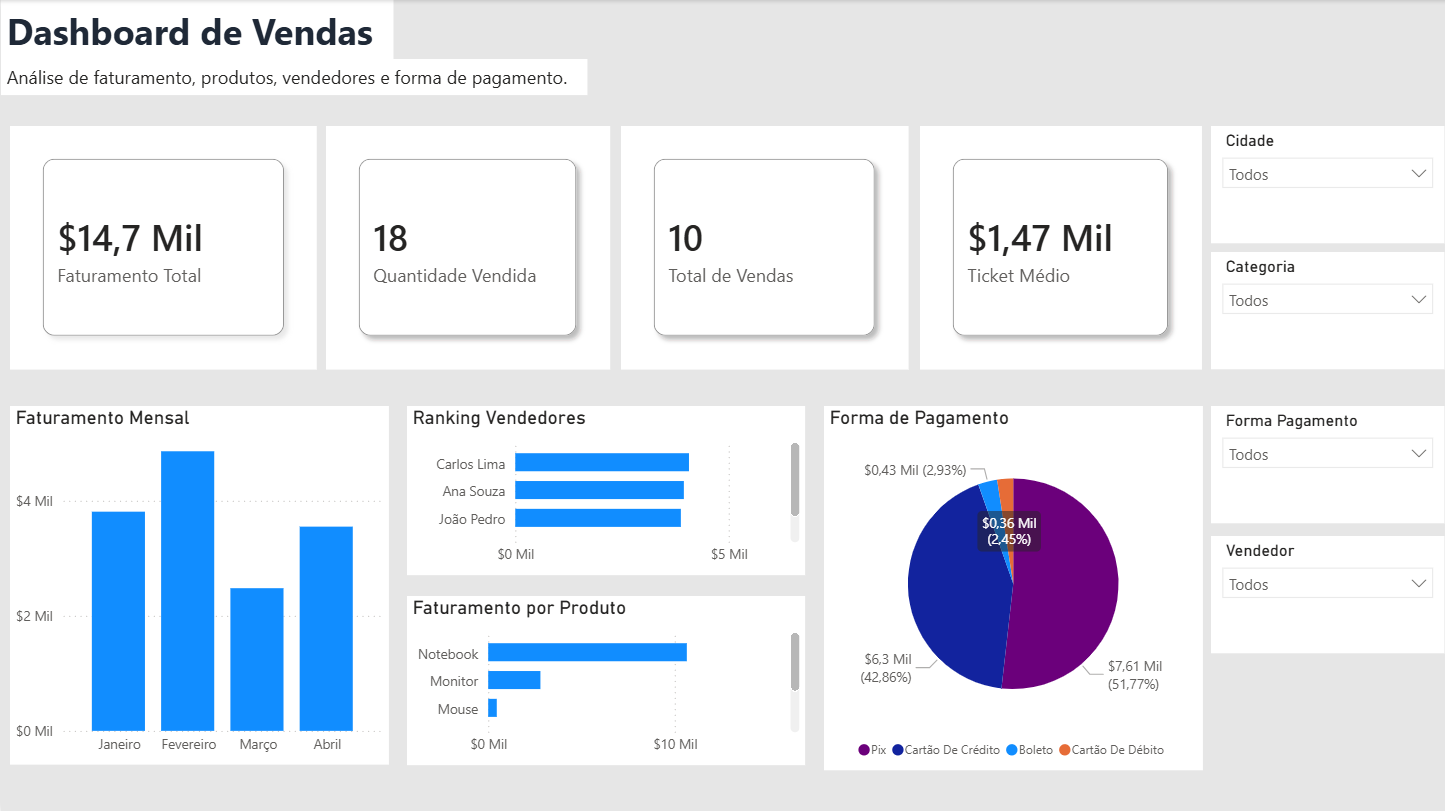

This screenshot's page, from the dashboard's own definition file:
{"tool":"powerbi","page":{"name":"Página 1","canvas":[1280,720],"ordinal":0},"visuals":[{"type":"cardVisual","fields":{"Data":["vendas_tratadas.Faturamento Total"]},"box":[7.8,111.9,272.3,215.9],"z":0},{"type":"cardVisual","fields":{"Data":["vendas_tratadas.Quantidade Vendida"]},"box":[287.9,111.9,251.9,215.9],"z":1},{"type":"cardVisual","fields":{"Data":["vendas_tratadas.Ticket Médio"]},"box":[815.1,111.9,250,215.9],"z":2},{"type":"cardVisual","fields":{"Data":["vendas_tratadas.Total de Vendas"]},"box":[549.5,111.9,254.8,215.9],"z":3},{"type":"clusteredColumnChart","title":"Faturamento Mensal","fields":{"Category":["vendas_tratadas.nome_mes"],"Y":["vendas_tratadas.Faturamento Total"]},"box":[7.8,359.9,335.6,318.1],"z":4},{"type":"clusteredBarChart","title":"Faturamento por Produto","fields":{"Category":["vendas_tratadas.produto"],"Y":["vendas_tratadas.Faturamento Total"]},"box":[359.9,528.1,353.1,149.8],"z":5},{"type":"clusteredBarChart","title":"Ranking Vendedores","fields":{"Category":["vendas_tratadas.vendedor"],"Y":["vendas_tratadas.Faturamento Total"]},"box":[359.9,359.9,353.1,149.8],"z":6},{"type":"pieChart","title":"Forma de Pagamento","fields":{"Category":["vendas_tratadas.forma_pagamento"],"Y":["vendas_tratadas.Faturamento Total"]},"box":[729.5,359.9,335.6,322.9],"z":7},{"type":"slicer","fields":{"Values":["vendas_tratadas.cidade"]},"box":[1072.8,111.9,207.2,104.1],"z":8},{"type":"slicer","fields":{"Values":["vendas_tratadas.categoria"]},"box":[1072.8,223.7,207.2,104.1],"z":9},{"type":"slicer","fields":{"Values":["vendas_tratadas.forma_pagamento"]},"box":[1072.8,359.9,207.2,104.1],"z":10},{"type":"slicer","fields":{"Values":["vendas_tratadas.vendedor"]},"box":[1072.8,475.6,207.2,104.1],"z":11},{"type":"textbox","box":[0,0,348.2,52.5],"z":12},{"type":"textbox","box":[0,52.5,520.4,32.1],"z":13}]}

Visuals, with their boxes in screenshot pixels (x1, y1, x2, y2), scaled from the page's 1280x720 canvas onto the 1445x811 screenshot:
cardVisual - vendas_tratadas.Faturamento Total: (9, 126, 316, 369)
cardVisual - vendas_tratadas.Quantidade Vendida: (325, 126, 609, 369)
cardVisual - vendas_tratadas.Ticket Médio: (920, 126, 1202, 369)
cardVisual - vendas_tratadas.Total de Vendas: (620, 126, 908, 369)
"Faturamento Mensal" clusteredColumnChart: (9, 405, 388, 764)
"Faturamento por Produto" clusteredBarChart: (406, 595, 805, 764)
"Ranking Vendedores" clusteredBarChart: (406, 405, 805, 574)
"Forma de Pagamento" pieChart: (824, 405, 1202, 769)
slicer - vendas_tratadas.cidade: (1211, 126, 1444, 243)
slicer - vendas_tratadas.categoria: (1211, 252, 1444, 369)
slicer - vendas_tratadas.forma_pagamento: (1211, 405, 1444, 523)
slicer - vendas_tratadas.vendedor: (1211, 536, 1444, 653)
textbox: (0, 0, 393, 59)
textbox: (0, 59, 587, 95)
